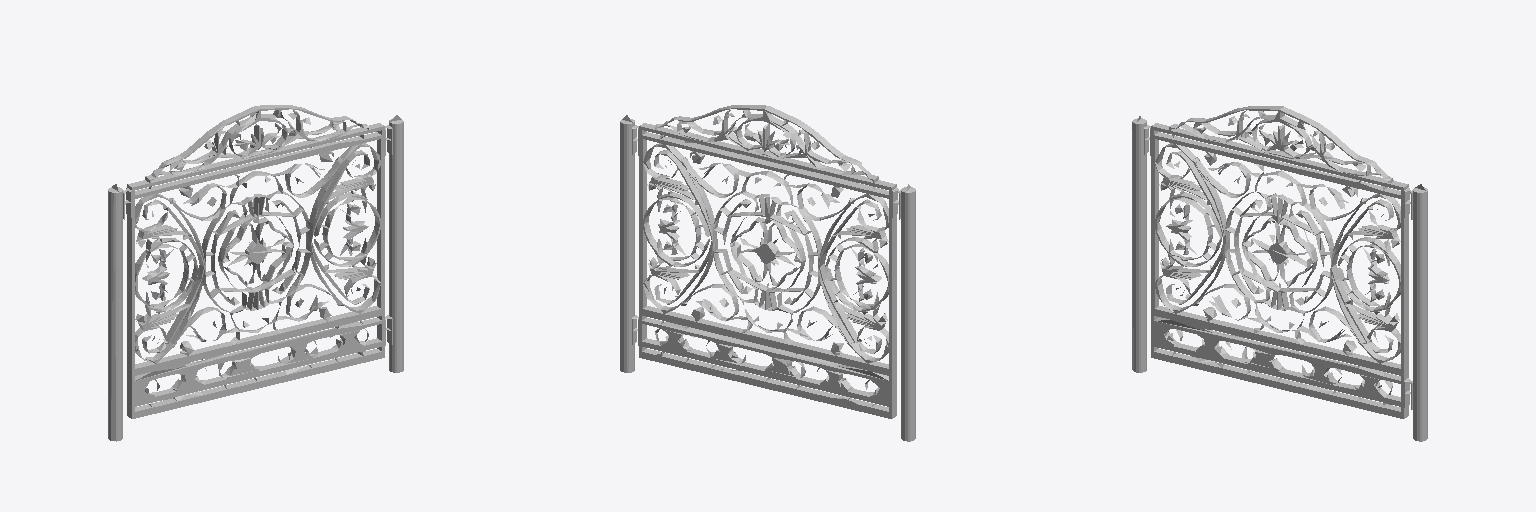
The model's file is fenceDoor.obj.
3 views of the same model, side by side, from view 1: azimuth 30°, elevation 25°; view 2: azimuth 150°, elevation 25°; view 3: azimuth 330°, elevation 25° (orthographic).
Bounding box in the file's own units: 1823 × 1759 × 78.41.